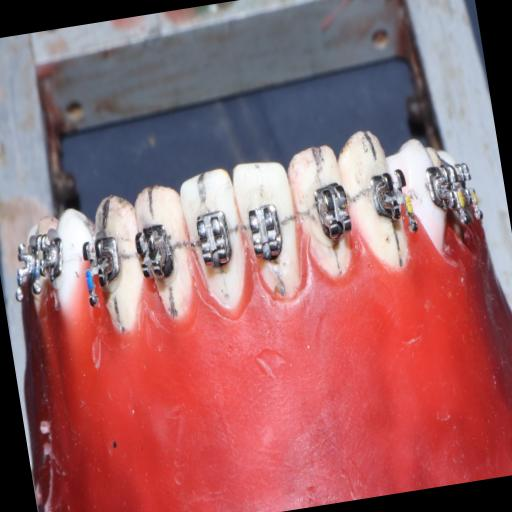incorrect_brace: (241, 197, 290, 269)
